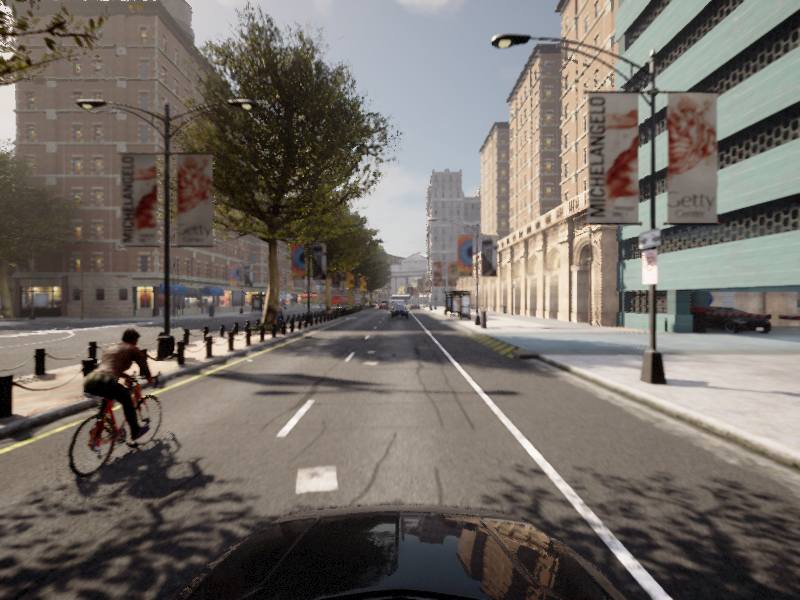vehicle: (40, 326, 181, 489), (272, 303, 286, 321), (391, 305, 408, 318), (266, 303, 278, 317)
